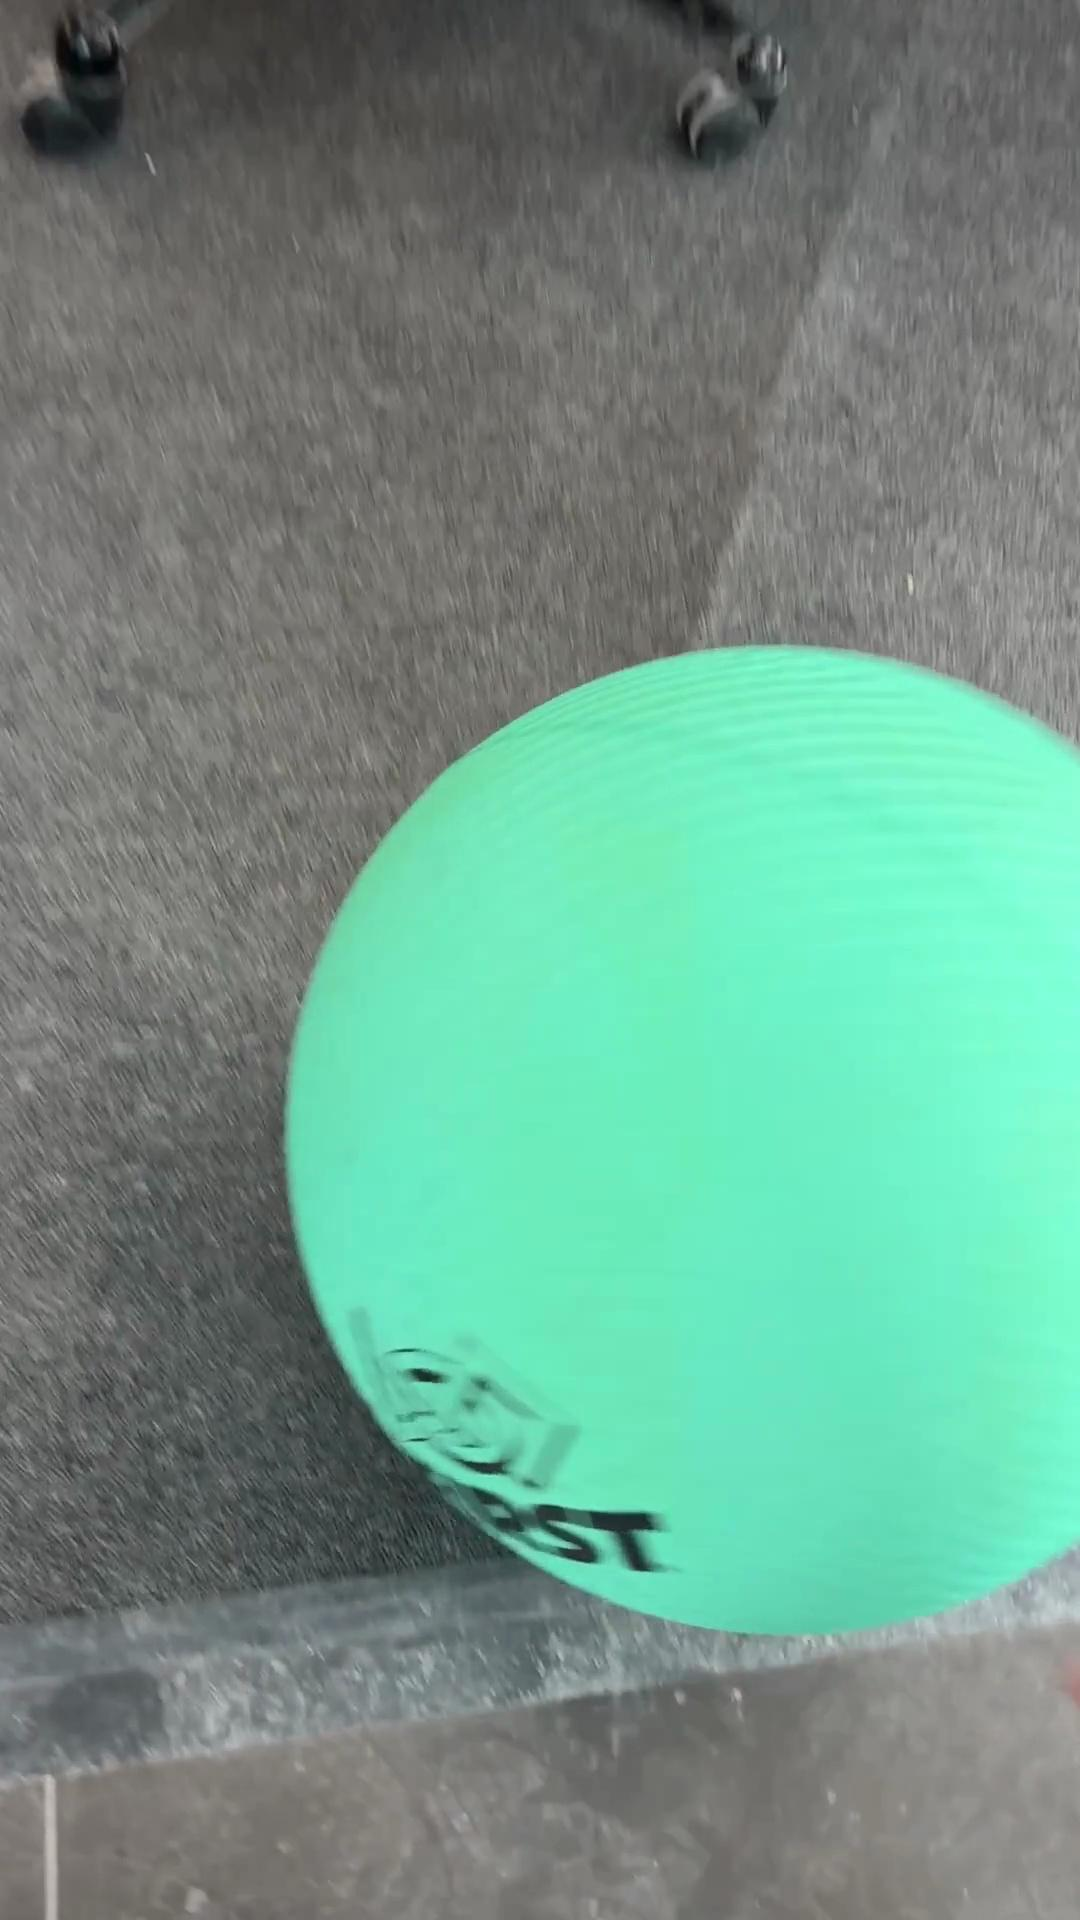ALGAE: (281, 640, 1077, 1640)
